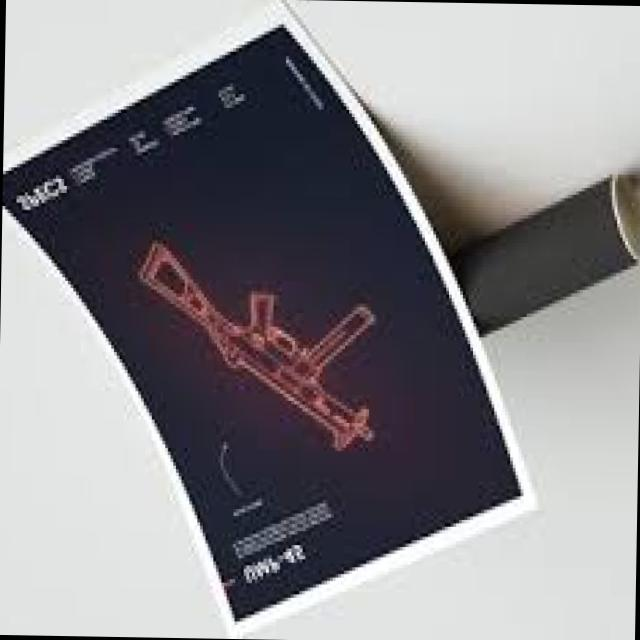Gun: (108, 225, 418, 482)
